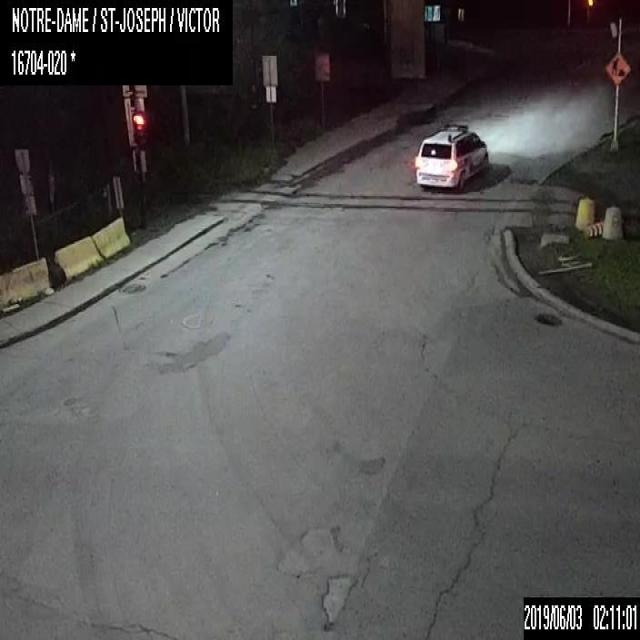construction: (604, 51, 630, 85), (586, 221, 603, 236)
vehicle: (414, 123, 488, 189)
